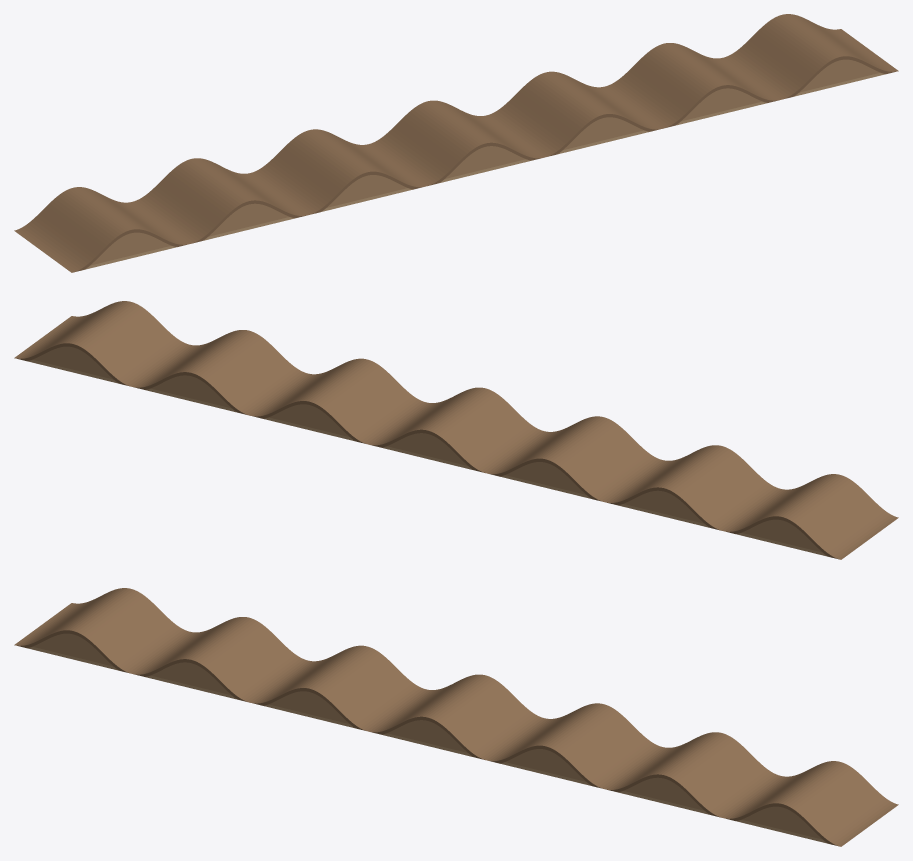
The model's file is DR_Prop_Whoops.fbx.
The picture shows the model from 3 angles, top to bottom: view 1: azimuth 30°, elevation 25°; view 2: azimuth 150°, elevation 25°; view 3: azimuth 330°, elevation 25°; orthographic projection.
Parts seen in each view (by area): view 1: DR_Prop_Whoops; view 2: DR_Prop_Whoops; view 3: DR_Prop_Whoops.
Boxes of the visible parts, <box> form: DR_Prop_Whoops: <box>14,14,898,272</box>; DR_Prop_Whoops: <box>14,301,898,559</box>; DR_Prop_Whoops: <box>14,588,898,846</box>.
Size of the model in its own units: 9.1 by 0.3 by 1.1.
